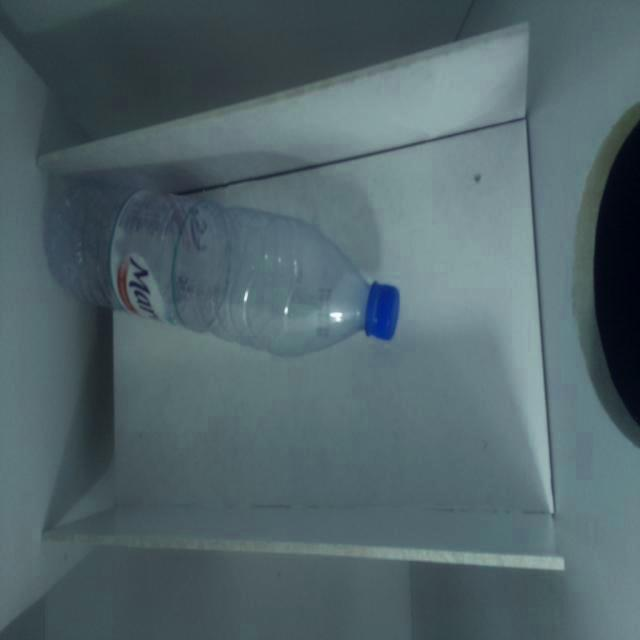bottle: (48, 184, 400, 360)
